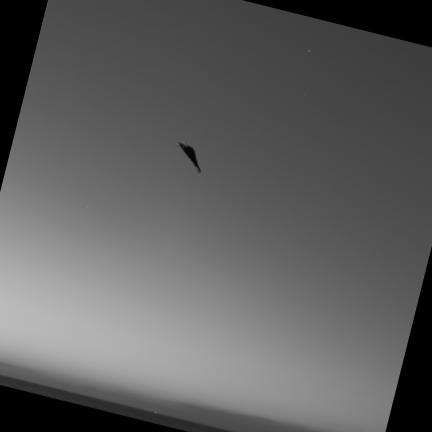Shahed: (176, 141, 200, 172)
